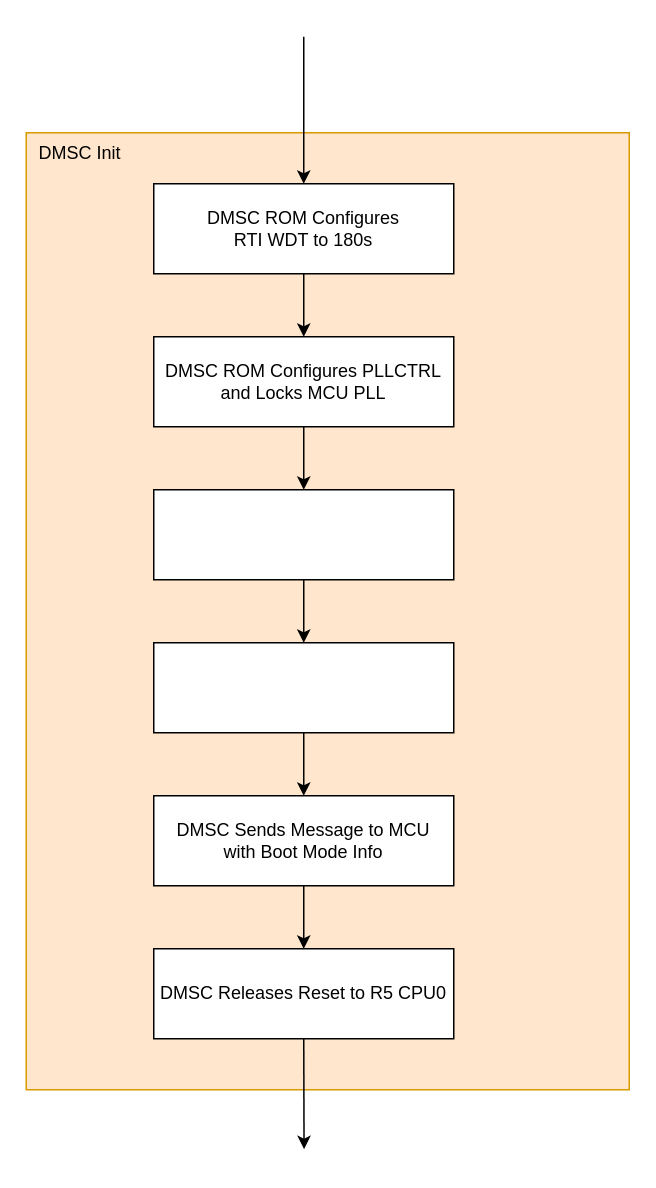
This 656x1188 diagram has some shape labels left out. Each missing label, with the centre of its shape:
"DMSC Configures Default Firewalls Based on Boot Mode" belongs at point 303,534.
"DMSC Configures MCU Sec. Proxy/Ring Acc." belongs at point 303,687.
